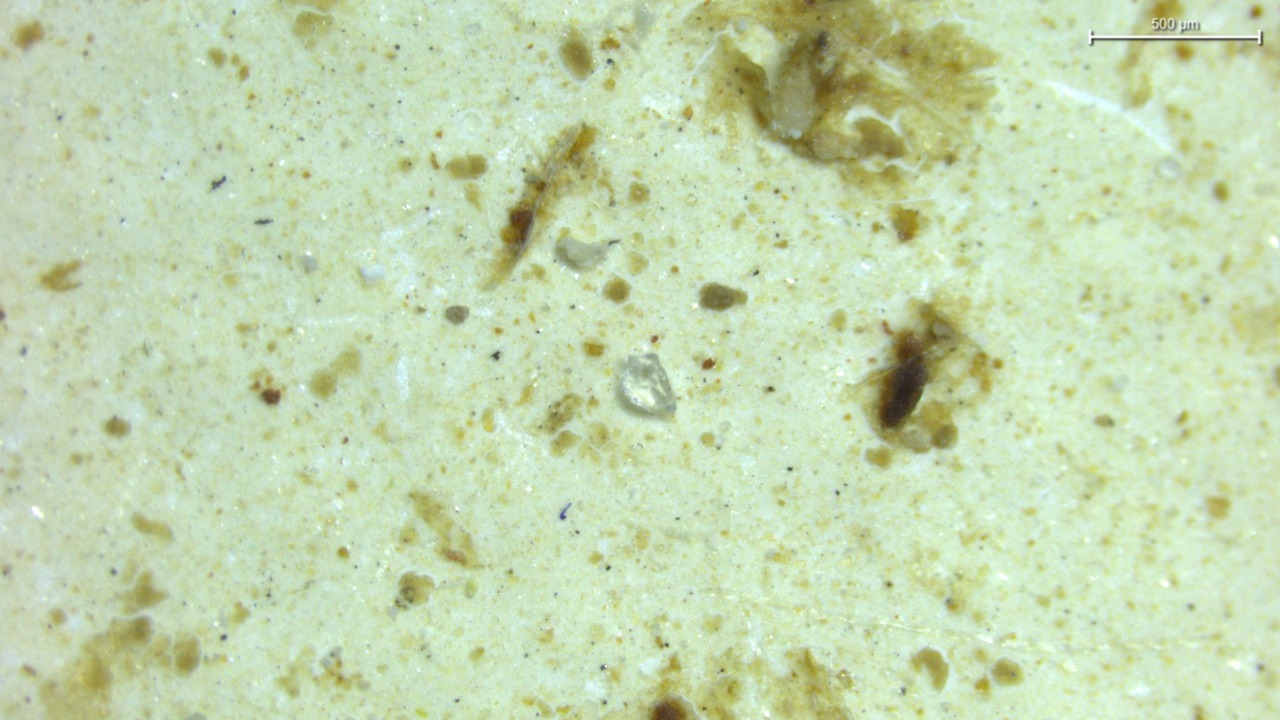microplastic_fragment: (618, 352, 675, 414), (555, 236, 618, 272)
